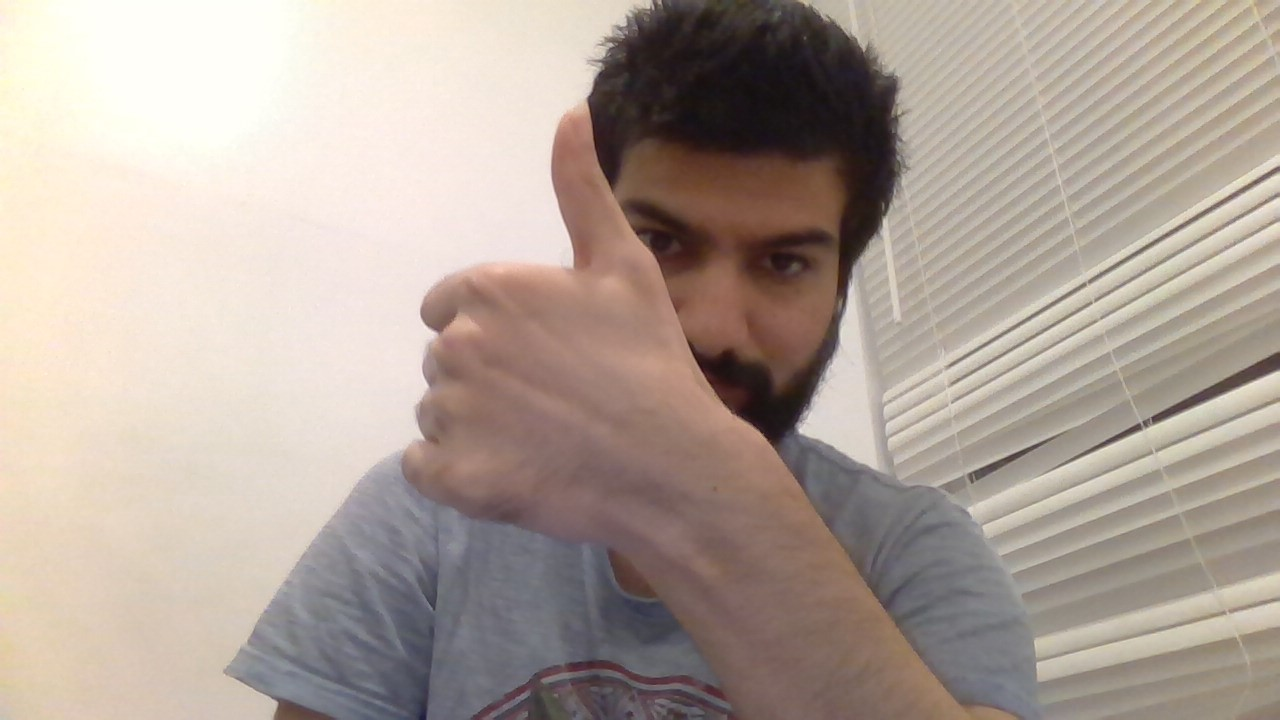up: (406, 89, 683, 544)
